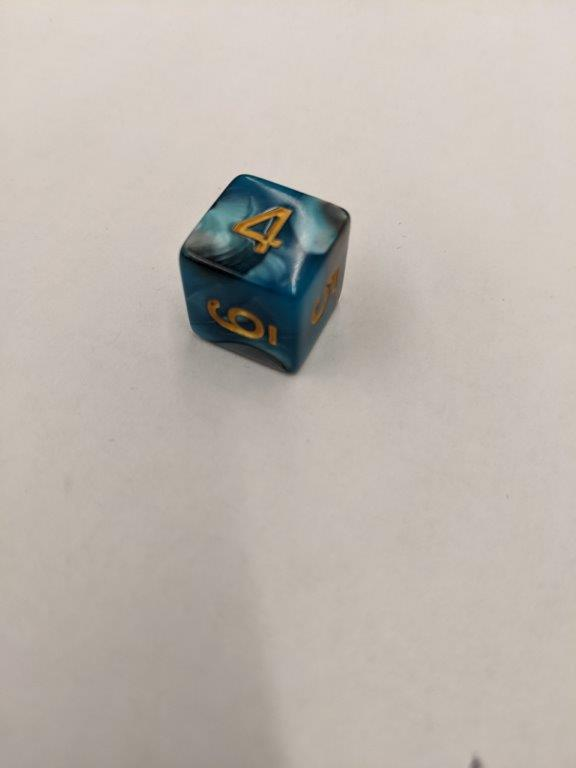d6-4: (177, 176, 352, 375)
